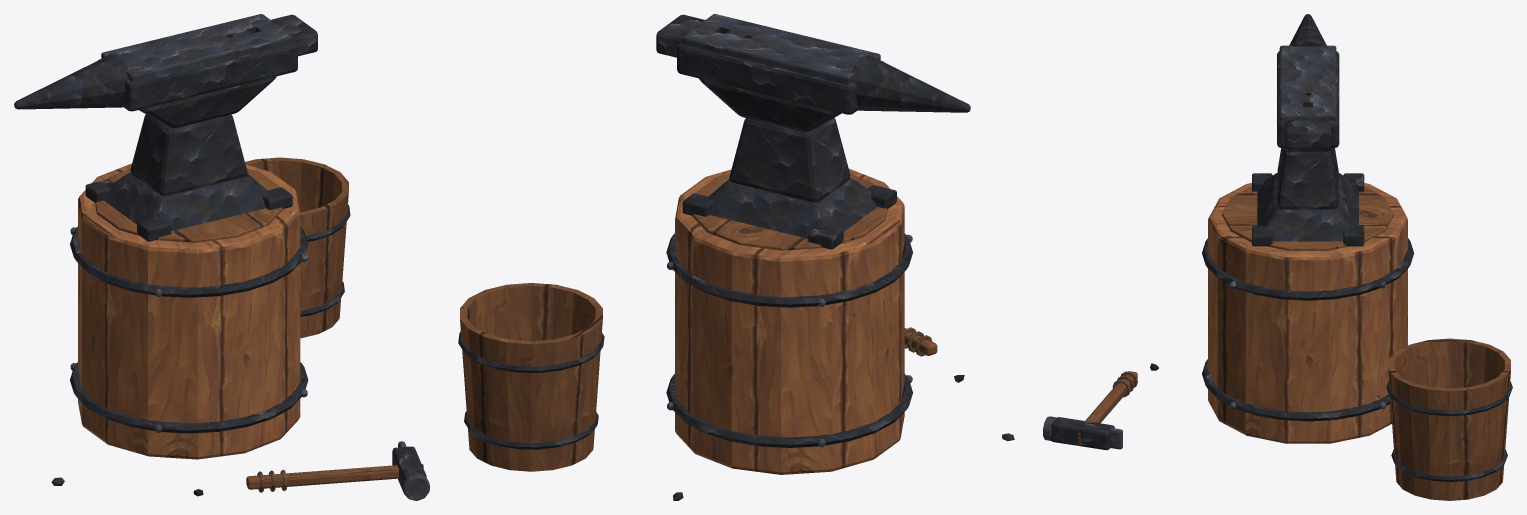
The model's file is ef_blade_on_anvil.glb.
3 views of the same model, side by side, from view 1: azimuth 30°, elevation 25°; view 2: azimuth 150°, elevation 25°; view 3: azimuth 270°, elevation 25° (orthographic). The views are drawn at different scales.
Visible parts, largest first — view 1: model; view 2: model; view 3: model.
Boxes of the visible parts, <box> form: model: <box>14,14,429,500</box>; model: <box>458,14,1014,500</box>; model: <box>1043,14,1512,500</box>.
Bounding box in the file's own units: 1.01 × 0.8858 × 1.13.
11 materials, 7 textured.
